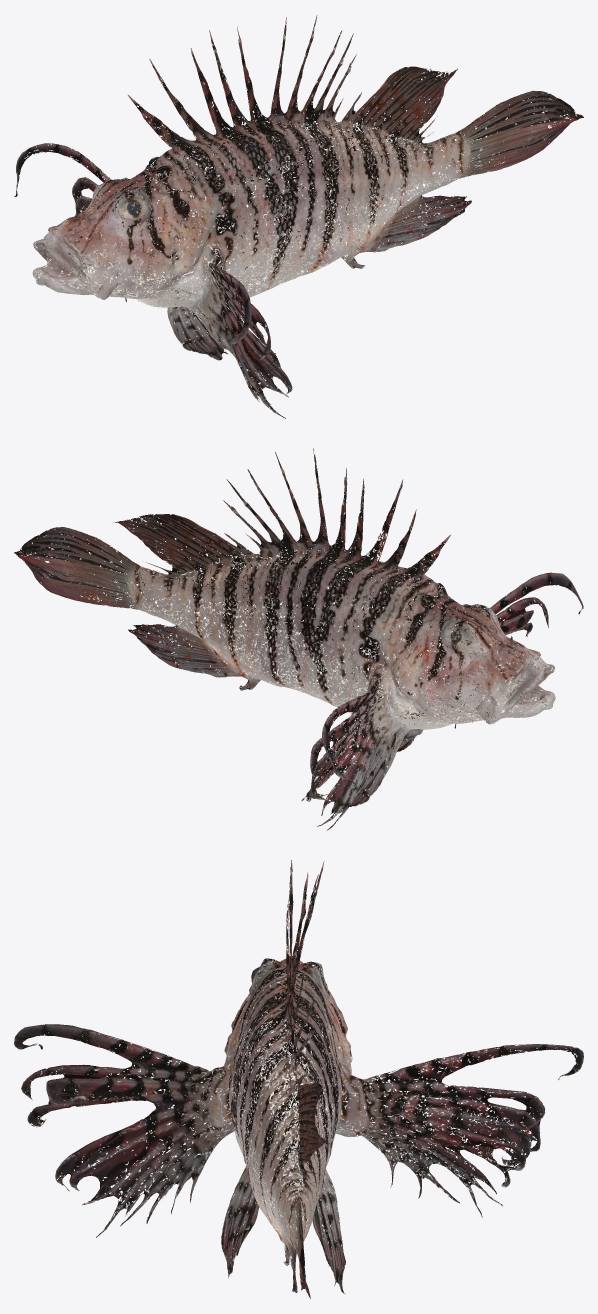
The model's file is lionfish.glb.
3 views of the same model, one above another, from view 1: azimuth 30°, elevation 25°; view 2: azimuth 150°, elevation 25°; view 3: azimuth 270°, elevation 25° (orthographic). The views are drawn at different scales.
Visible parts, largest first — view 1: Object_6, Object_11; view 2: Object_6, Object_11; view 3: Object_11, Object_6.
Part boxes in pixels (x1,y1,x2,y2): Object_6: (16,17,583,418); Object_11: (14,15,583,418); Object_6: (17,449,582,829); Object_11: (14,448,583,830); Object_11: (14,860,582,1296); Object_6: (15,861,583,1298).
Size of the model in its own units: 13.89 by 8.45 by 10.51.
2 materials, 2 textured.
